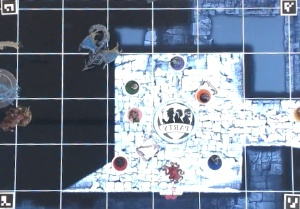green: (124, 78, 142, 95)
orange: (196, 86, 215, 104)
pink: (124, 104, 143, 122)
red: (111, 154, 130, 173)
violet: (167, 53, 189, 71), (206, 153, 222, 170)
yellow: (291, 101, 300, 124)
